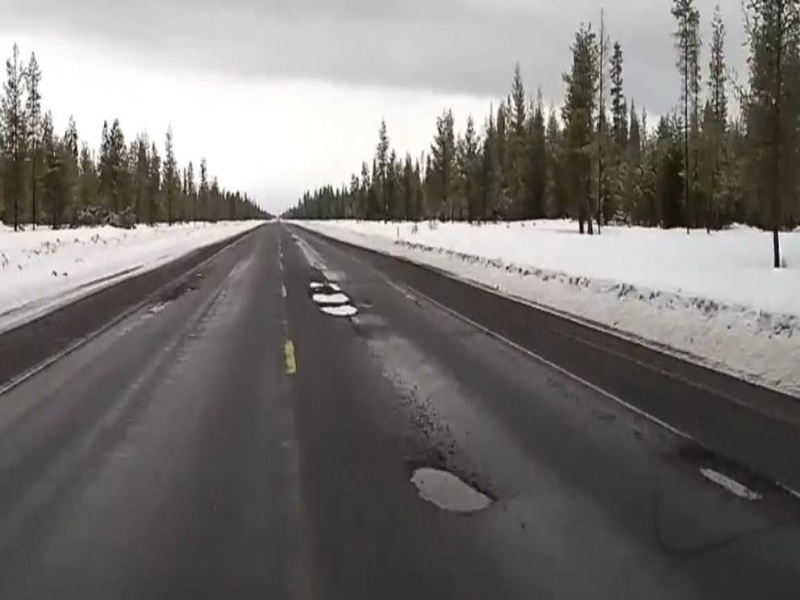pothole: (398, 457, 510, 517), (689, 459, 769, 507), (308, 287, 356, 308), (318, 302, 360, 317)
